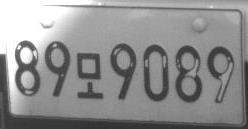0: (142, 43, 170, 102)
8: (173, 43, 203, 103), (13, 39, 41, 97)
9: (43, 39, 72, 97), (207, 45, 235, 104), (109, 42, 137, 100)
모: (76, 52, 103, 99)
